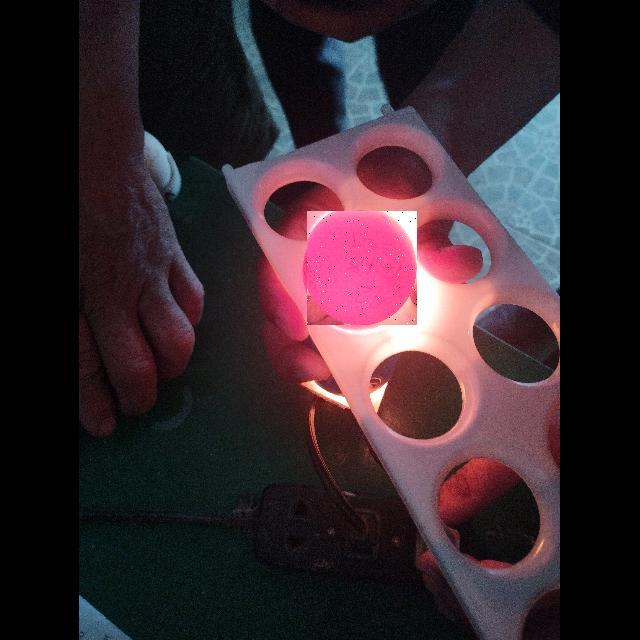Infertile: (307, 211, 417, 325)
